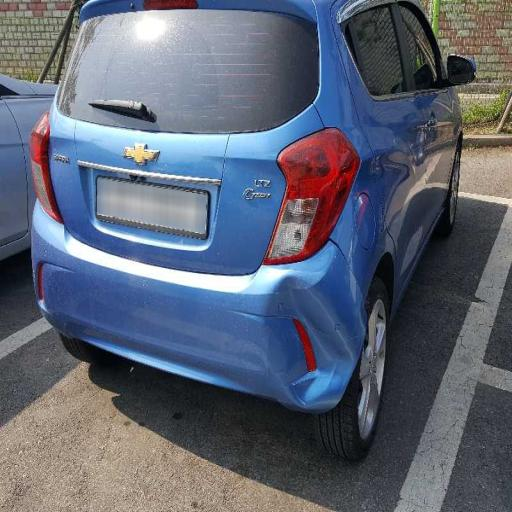dent: (260, 271, 357, 415)
